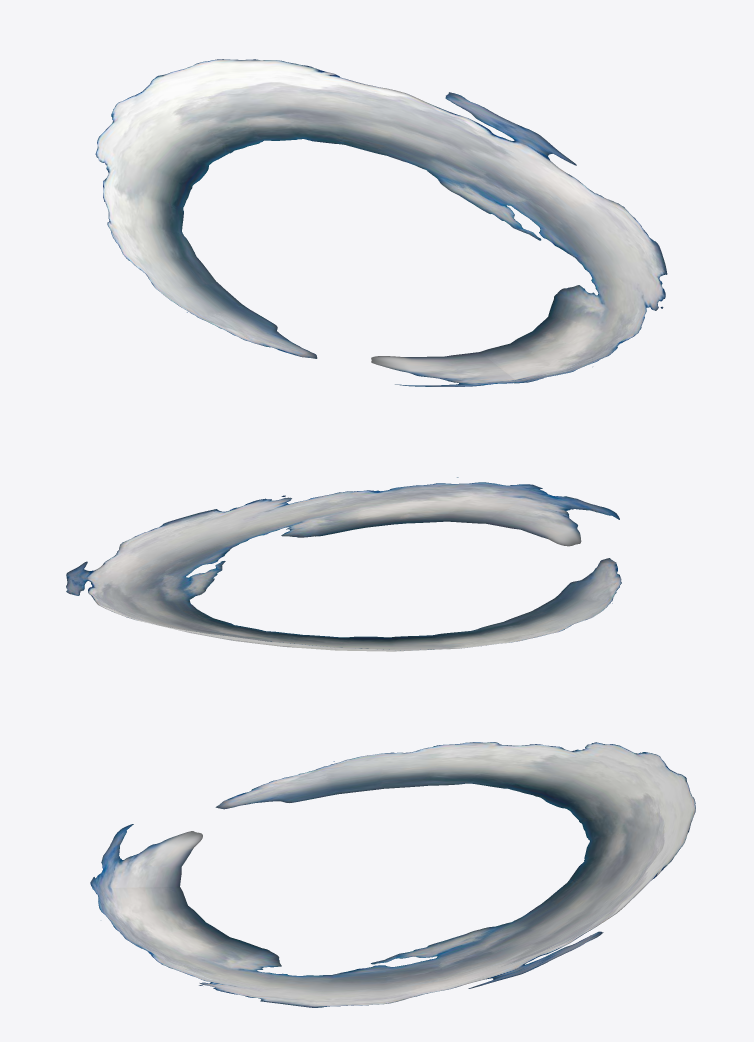
Rendered from bm_yunceng02.FBX.
The picture shows the model from 3 angles, top to bottom: view 1: azimuth 30°, elevation 25°; view 2: azimuth 150°, elevation 25°; view 3: azimuth 270°, elevation 25°; orthographic projection. The views are drawn at different scales.
Visible parts, largest first — view 1: yunceng02; view 2: yunceng02; view 3: yunceng02.
Part boxes in pixels (bbox=[...]): yunceng02: bbox=[95, 59, 667, 386]; yunceng02: bbox=[66, 477, 621, 651]; yunceng02: bbox=[90, 742, 695, 1007].
Size of the model in its own units: 6566 by 1334 by 7135.
Materials: 1 (1 with a texture image).
